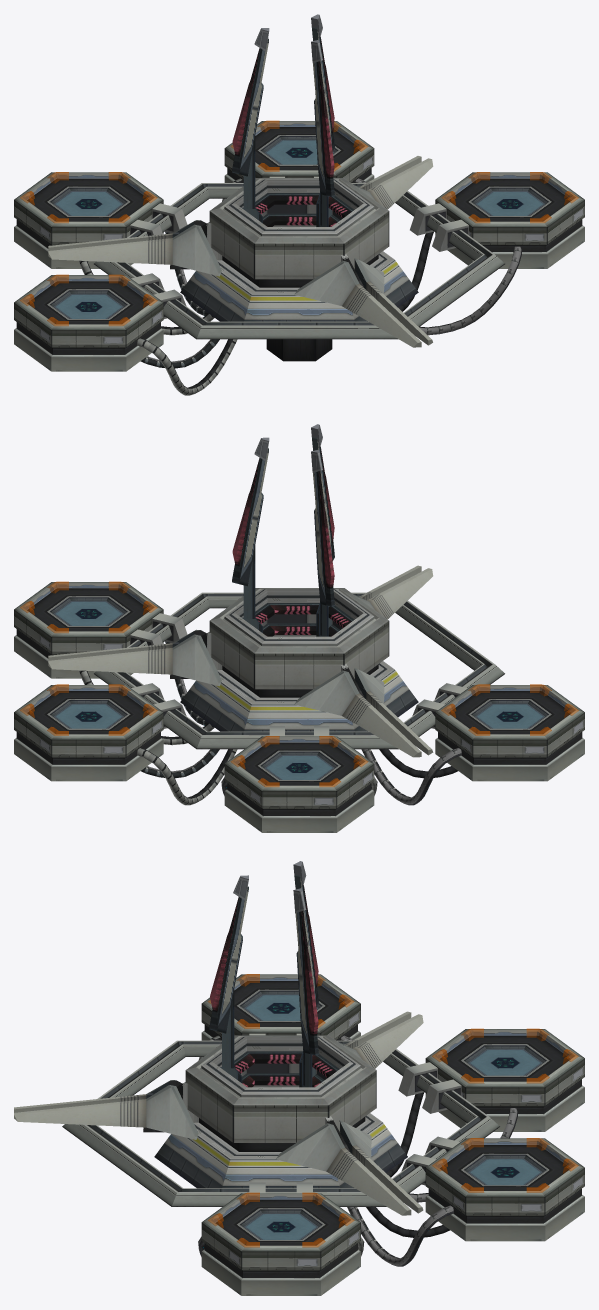
The model's file is TeamsBattle.fbx.
3 renders of one model, top to bottom at view 1: azimuth 30°, elevation 25°; view 2: azimuth 150°, elevation 25°; view 3: azimuth 270°, elevation 25°, orthographic. The views are drawn at different scales.
Parts seen in each view (by area): view 1: TeamsBattle; view 2: TeamsBattle; view 3: TeamsBattle.
Part boxes in pixels (x1,y1,x2,y2): TeamsBattle: (14,14,584,395); TeamsBattle: (14,424,584,832); TeamsBattle: (14,861,584,1295).
Size of the model in its own units: 8.26 by 4.78 by 7.19.
